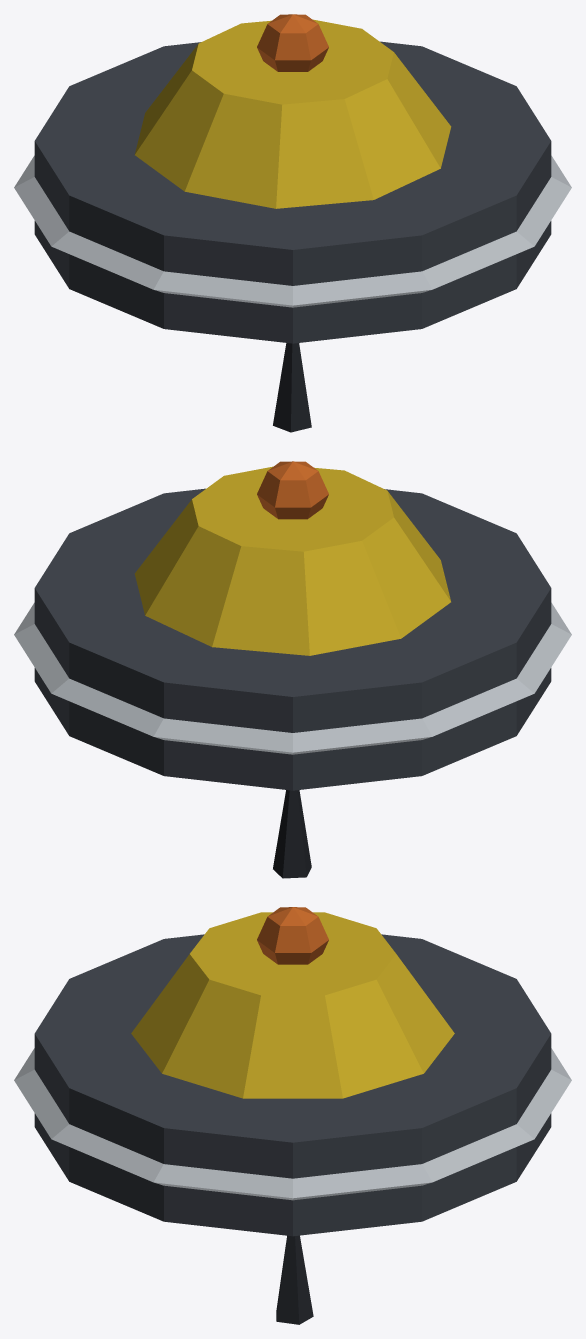
The model's file is mine-deafening.glb.
3 renders of one model, top to bottom at view 1: azimuth 30°, elevation 25°; view 2: azimuth 150°, elevation 25°; view 3: azimuth 270°, elevation 25°, orthographic.
Parts seen in each view (by area): view 1: m; view 2: m; view 3: m.
Part boxes in pixels (x1,y1,x2,y2): m: [14, 14, 571, 432]; m: [14, 461, 571, 878]; m: [14, 907, 571, 1324].
Size of the model in its own units: 0.1 by 0.0611 by 0.1.
